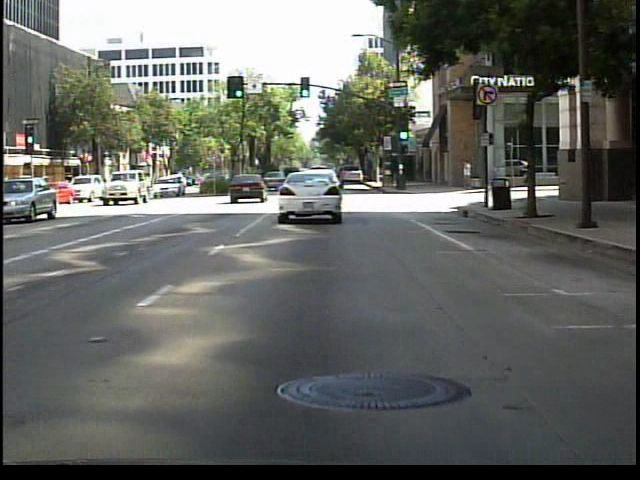person: (458, 155, 474, 194)
